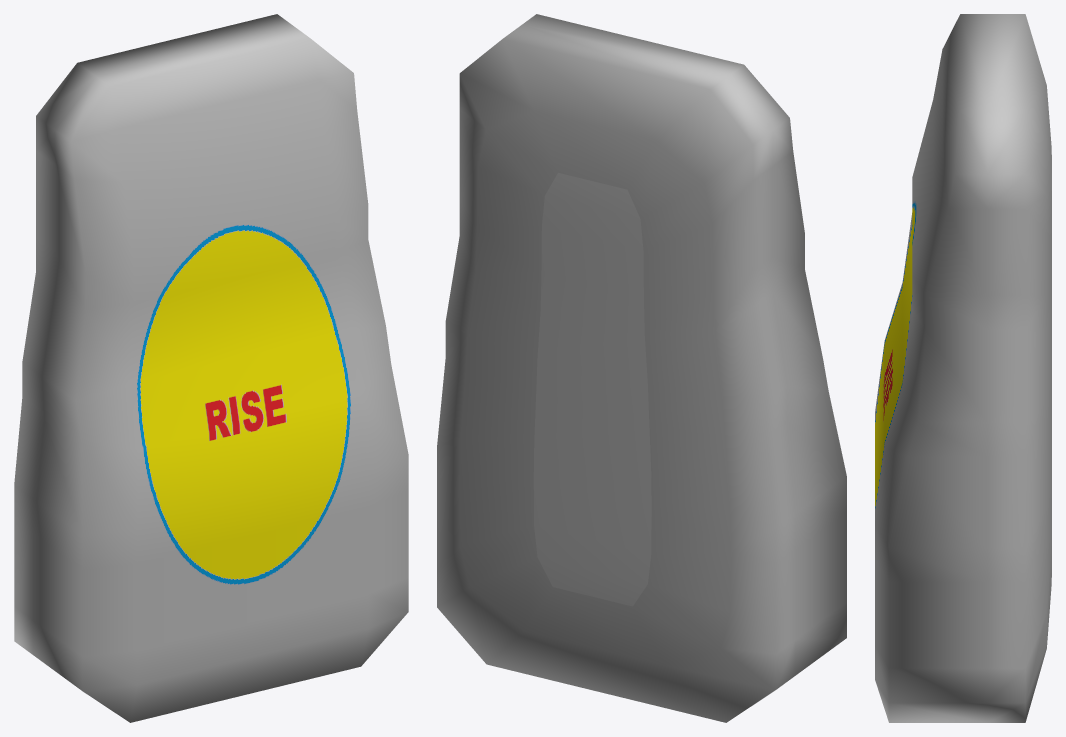
Rendered from rise_model.fbx.
3 renders of one model, left to right at view 1: azimuth 30°, elevation 25°; view 2: azimuth 150°, elevation 25°; view 3: azimuth 270°, elevation 25°, orthographic. The views are drawn at different scales.
Visible parts, largest first — view 1: Cube.004; view 2: Cube.004; view 3: Cube.004.
Boxes of the visible parts, x1,y1,x2,y2 form: Cube.004: [14, 14, 408, 722]; Cube.004: [437, 14, 846, 722]; Cube.004: [875, 14, 1051, 722].
Bounding box in the file's own units: 2.31 × 4.1 × 1.09.
2 materials, 1 textured.
